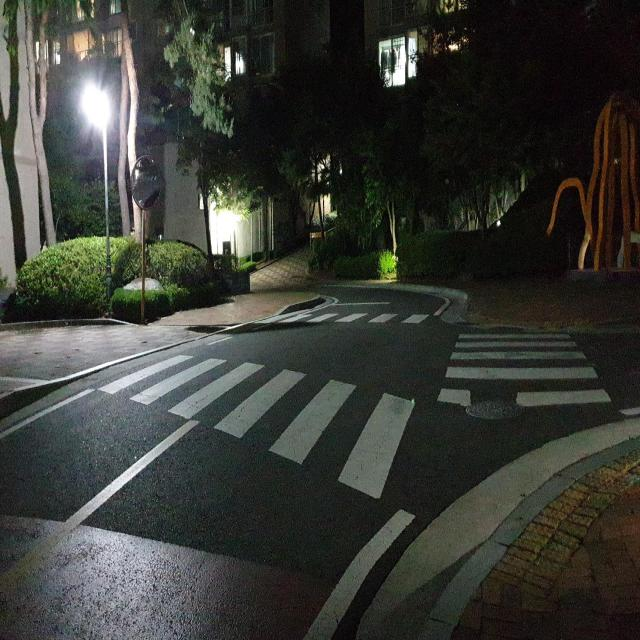횡단보도: (101, 349, 410, 502), (437, 328, 614, 412), (257, 309, 430, 325)
